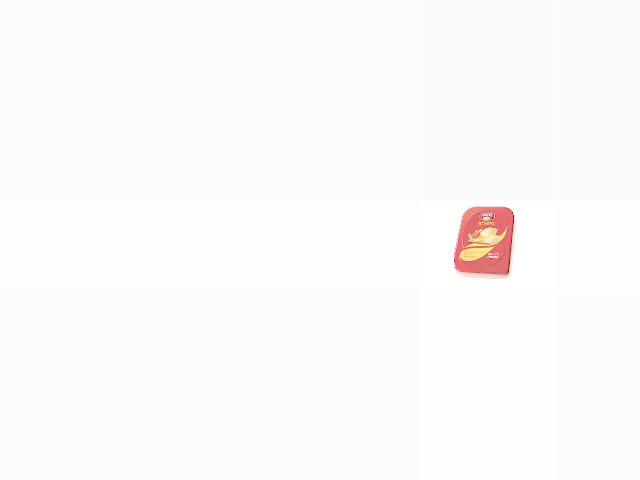cheese: (454, 202, 516, 278)
